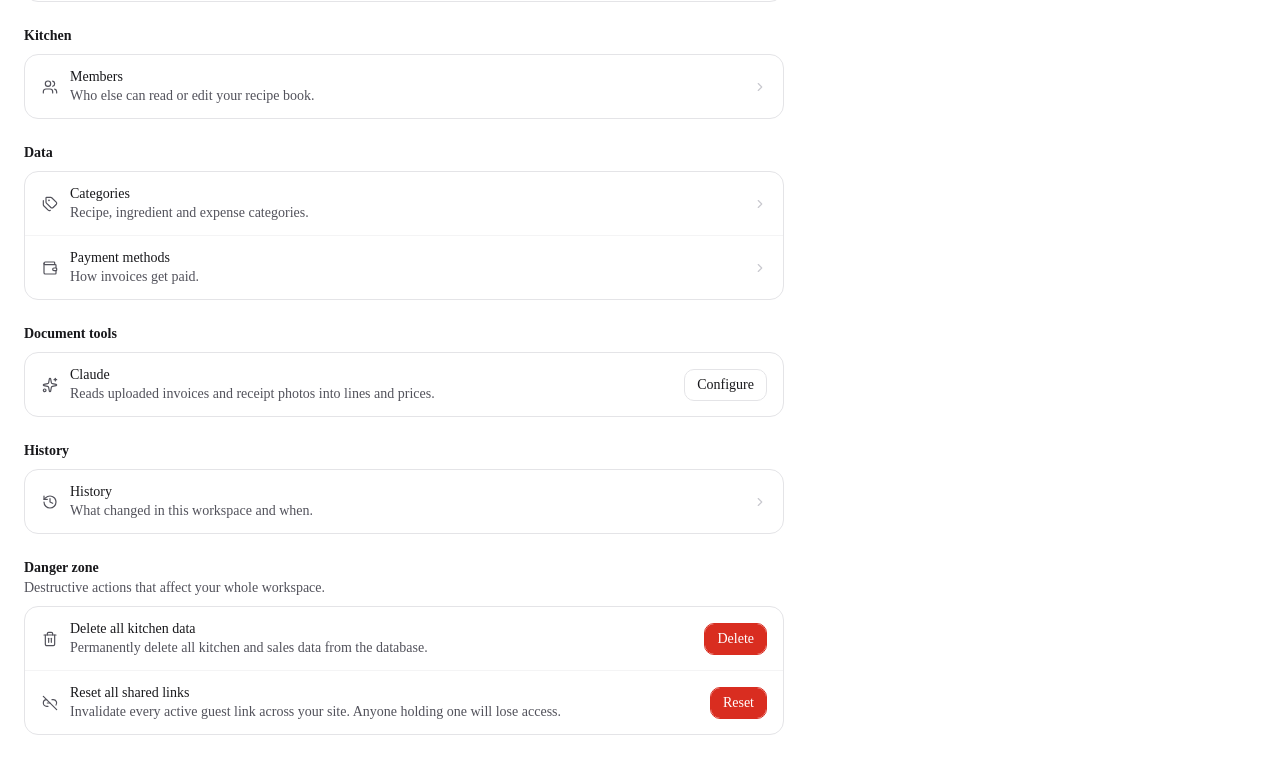
Test case: the danger zone › keeps the user on the page when the delete fails
The width and height of the screenshot is (1280, 769).
(page scrolled)
Click the button "Delete": (736, 638) [704, 622, 767, 654]
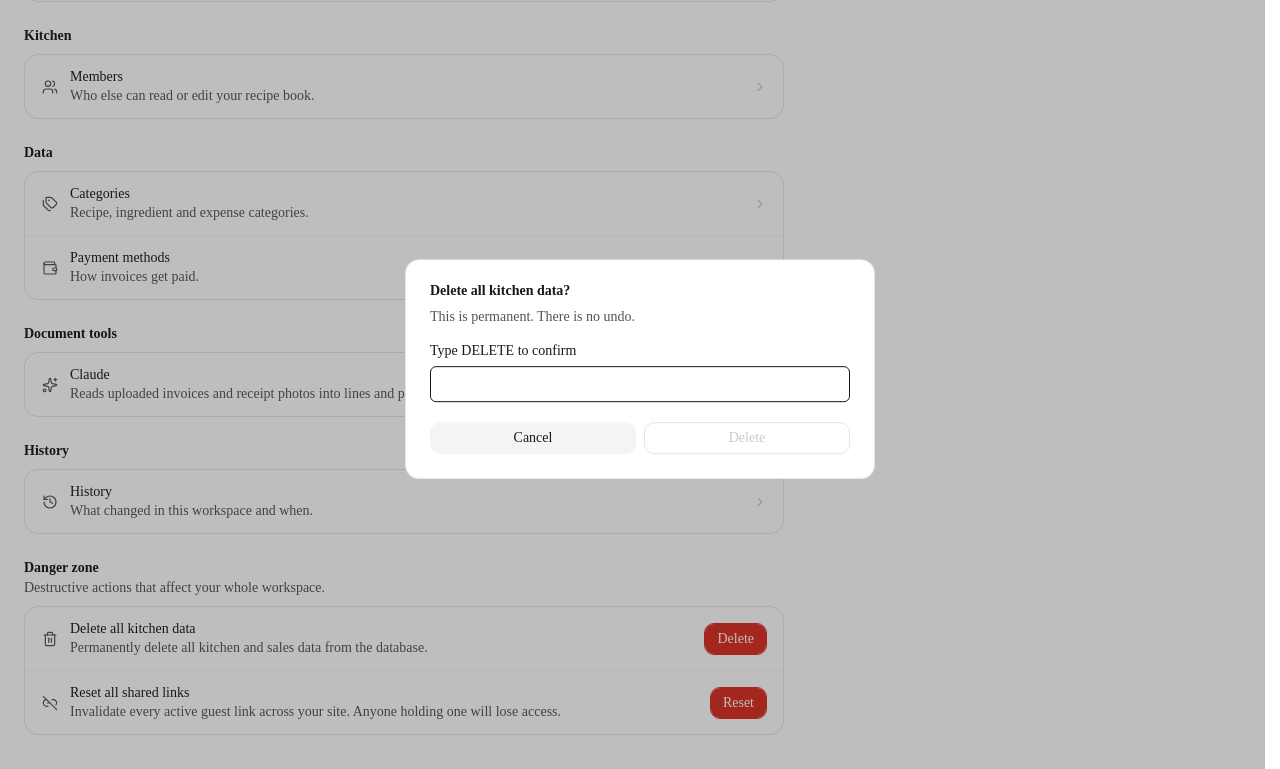
In the field labelled "Type DELETE to confirm": (640, 384) [430, 366, 850, 402], type "DELETE"
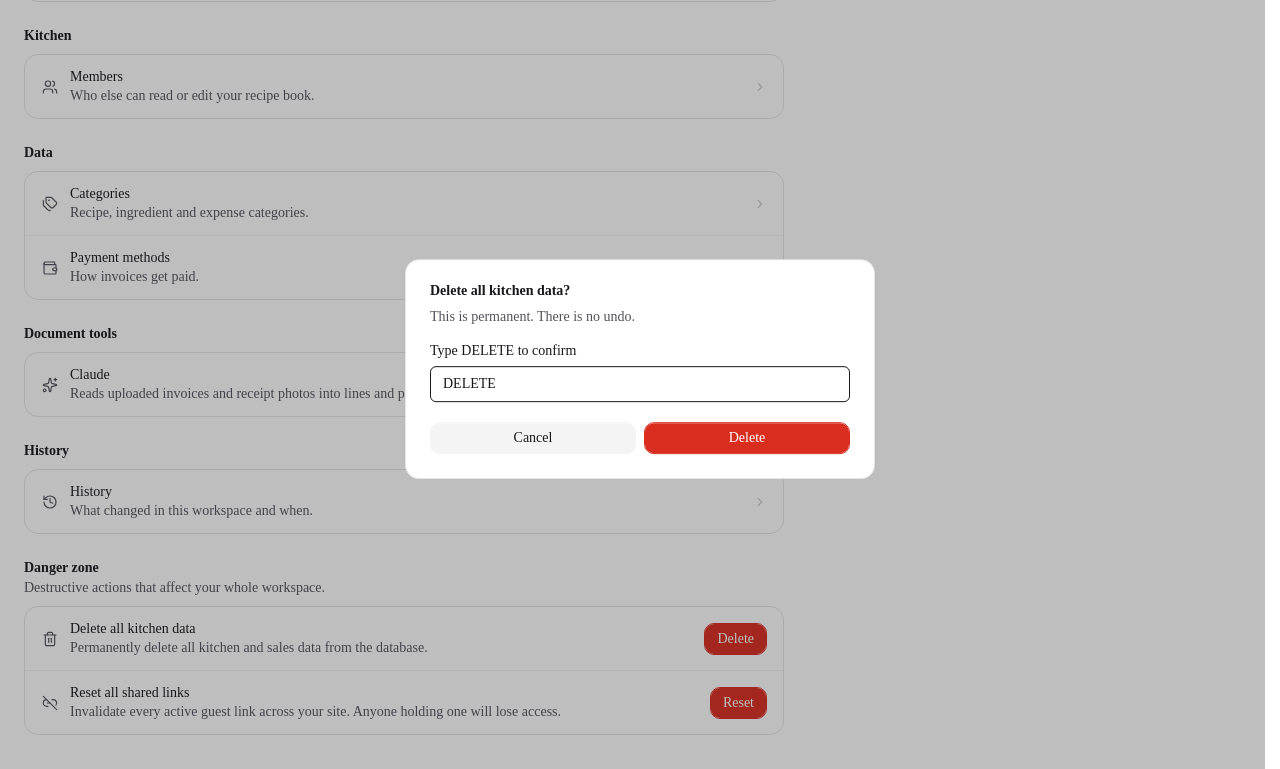
Click the button "Delete": (747, 438) [644, 422, 850, 454]
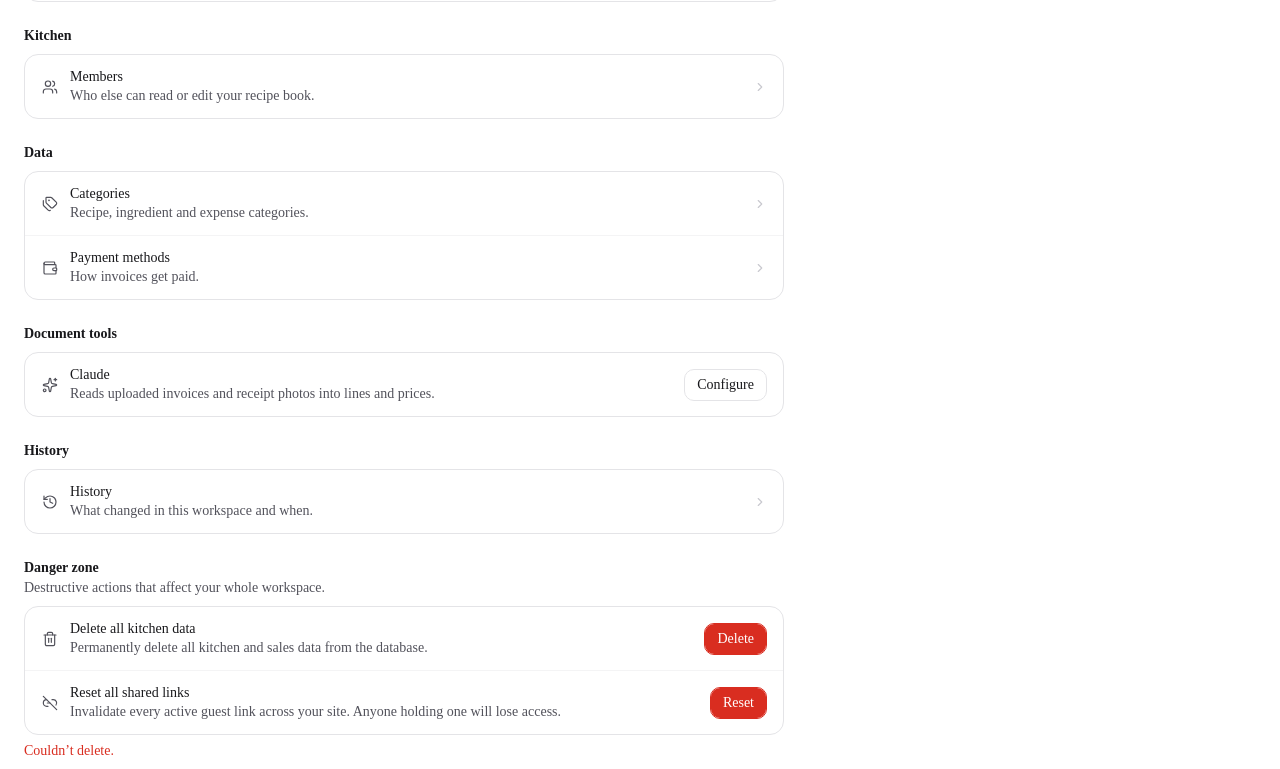
Expected: the message reads "Couldn’t delete.", [24, 743, 114, 758]
